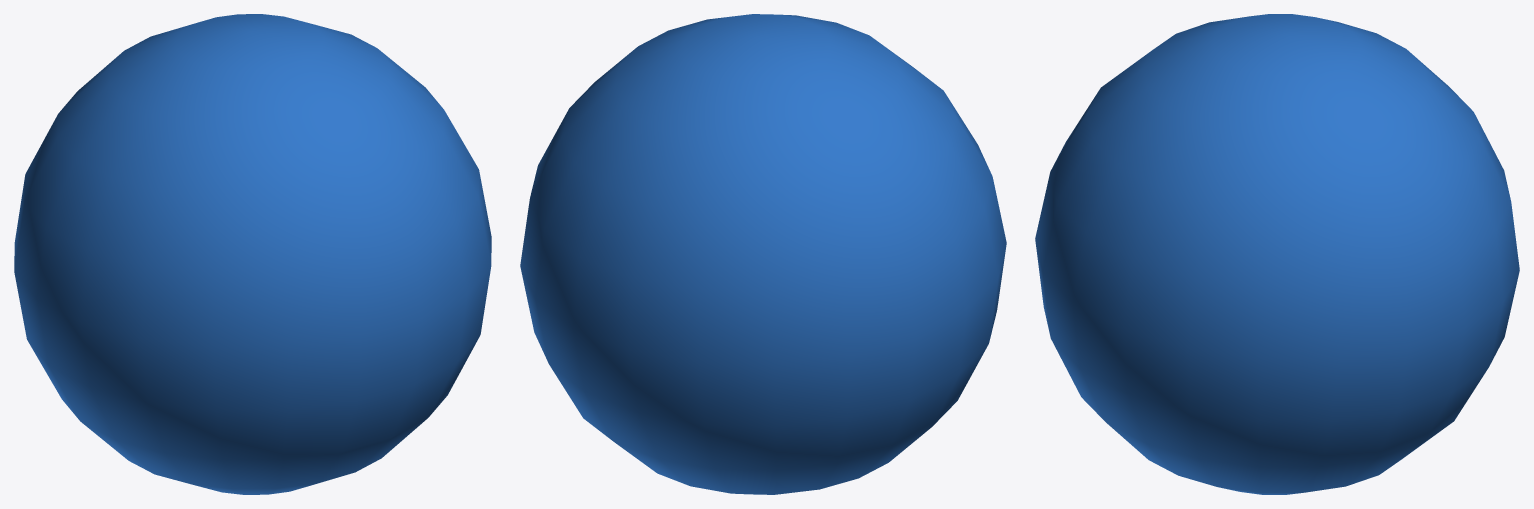
File: RWristYaw.dae
The picture shows the model from 3 angles, left to right: view 1: azimuth 30°, elevation 25°; view 2: azimuth 150°, elevation 25°; view 3: azimuth 270°, elevation 25°; orthographic projection.
Parts seen in each view (by area): view 1: RWristYaw; view 2: RWristYaw; view 3: RWristYaw.
Part boxes in pixels (x1,y1,x2,y2): RWristYaw: [14, 14, 491, 494]; RWristYaw: [520, 14, 1006, 494]; RWristYaw: [1035, 14, 1519, 494].
Bounding box in the file's own units: 0.051 × 0.0509 × 0.051.
